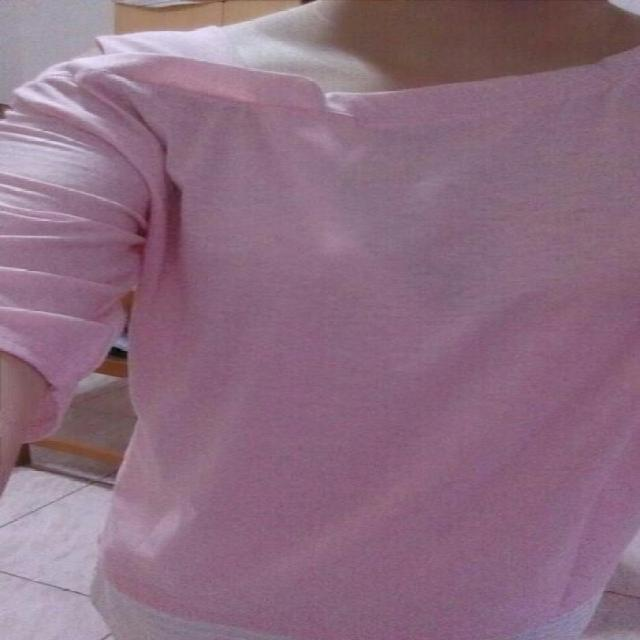long sleeve top: (5, 25, 635, 634)
